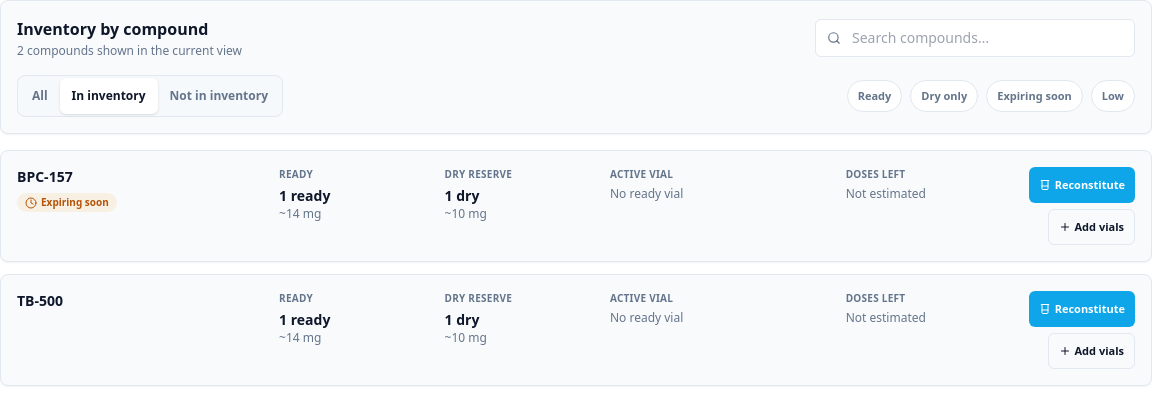
Test: CompoundInventoryView › "Expiring soon" chip keeps compounds with the EXPIRING_SOON badge
The image size is (1152, 403).
What coordinates should you click on to do the following:
click the button "Expiring soon"
I would click on:
 (1034, 96)
Its box is [986,80,1083,112].
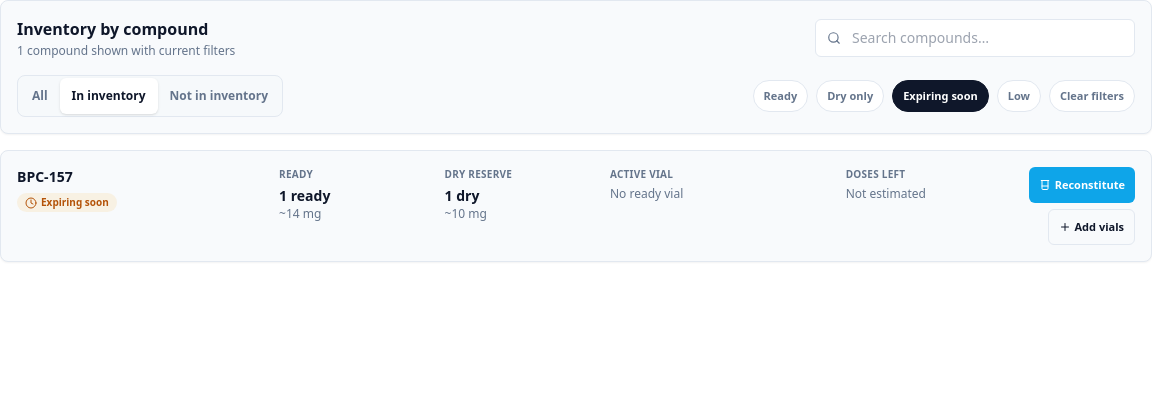
Expected: the heading "BPC-157" is shown, [17,167,73,186]
Now the link "TB-500" is gone
